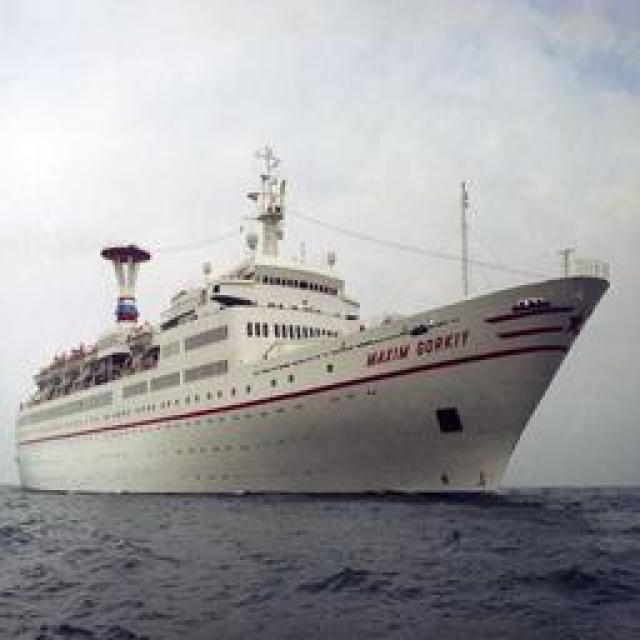CIV_Ship: (26, 198, 612, 498)
